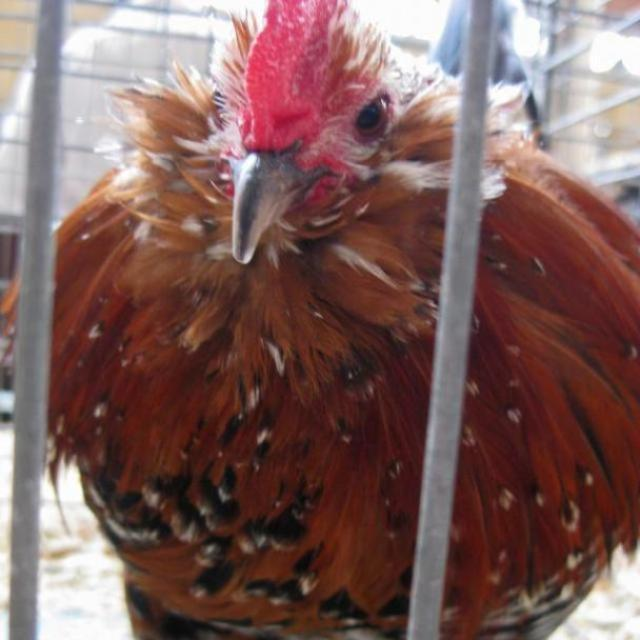Chicken: (25, 22, 640, 615)
